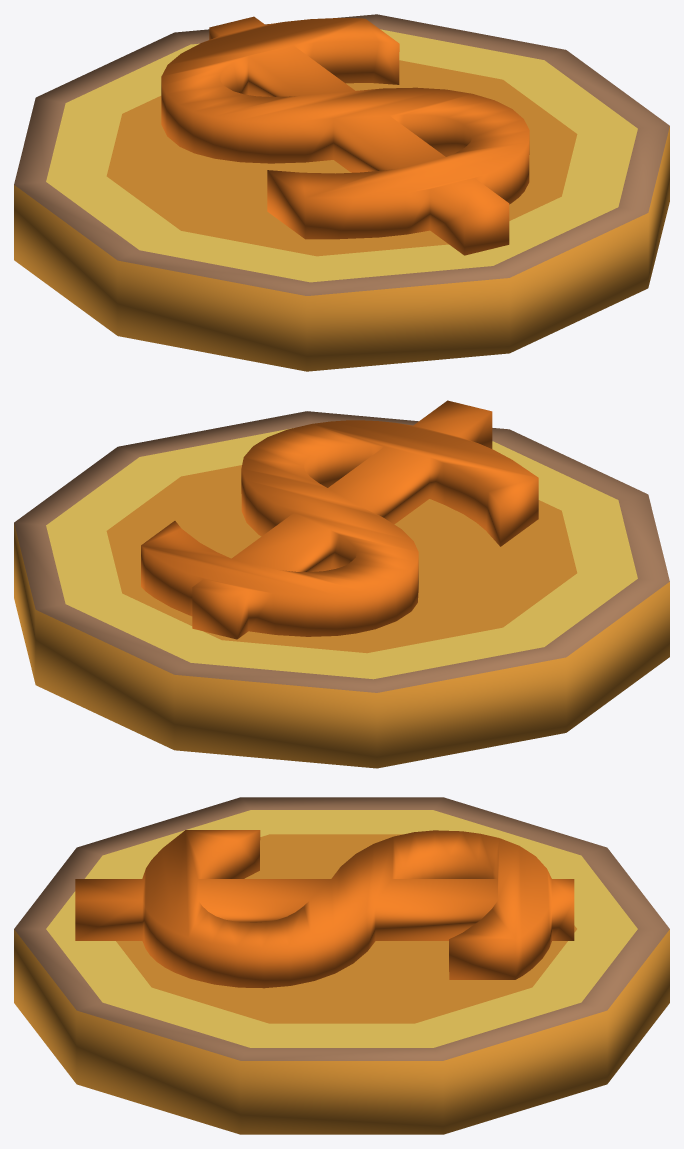
The model's file is Coin.fbx.
3 views of the same model, one above another, from view 1: azimuth 30°, elevation 25°; view 2: azimuth 150°, elevation 25°; view 3: azimuth 270°, elevation 25° (orthographic). The views are drawn at different scales.
Parts seen in each view (by area): view 1: 圆环; view 2: 圆环; view 3: 圆环.
Boxes of the visible parts, x1,y1,x2,y2 form: 圆环: (14,14,669,371); 圆环: (14,400,669,768); 圆环: (14,797,669,1134).
Size of the model in its own units: 190 by 39.41 by 200.
